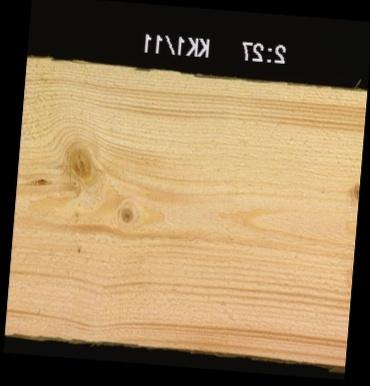sound_knot: (64, 144, 95, 178), (117, 200, 136, 225), (348, 178, 358, 199)
